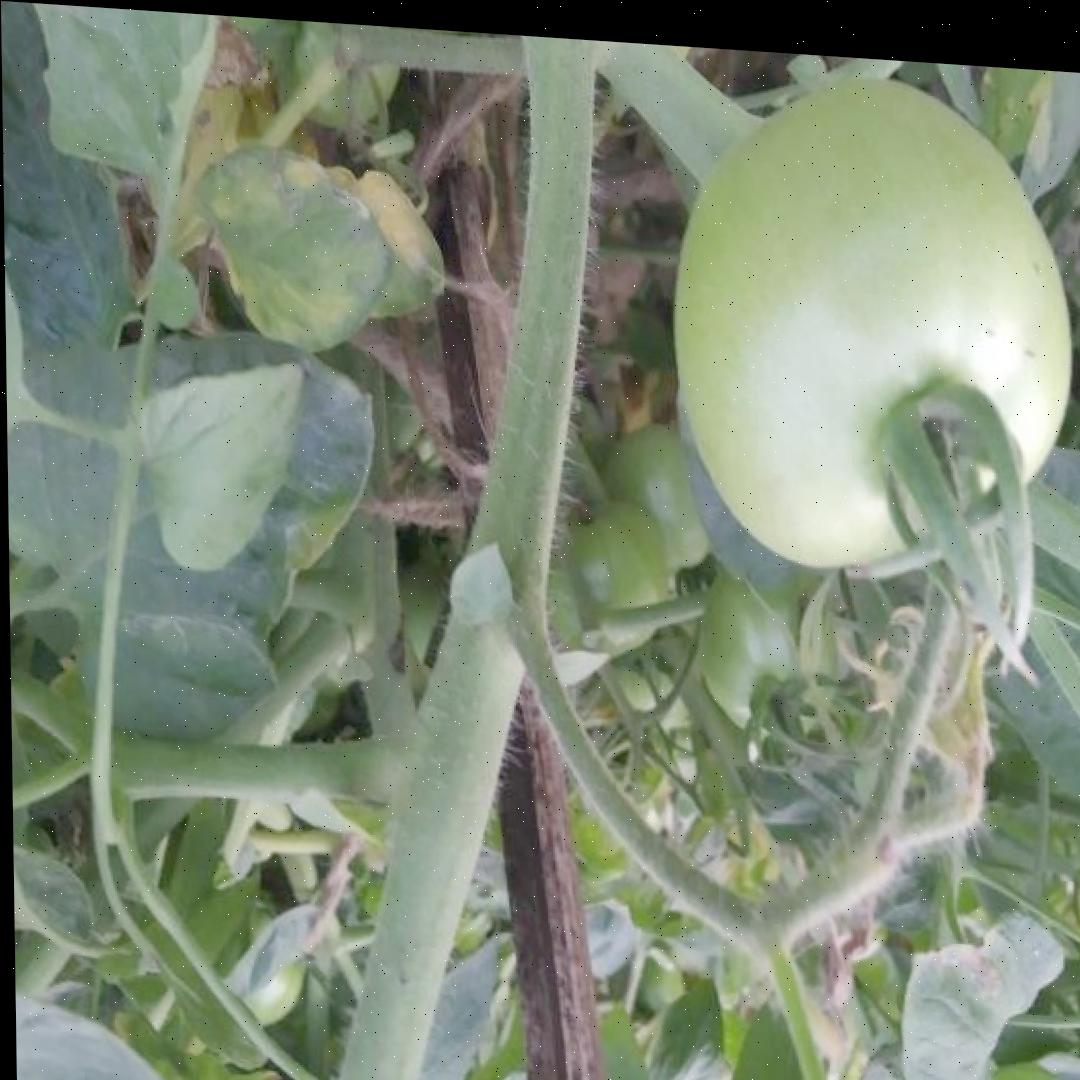mentah: (667, 67, 1074, 586), (691, 537, 834, 744)
